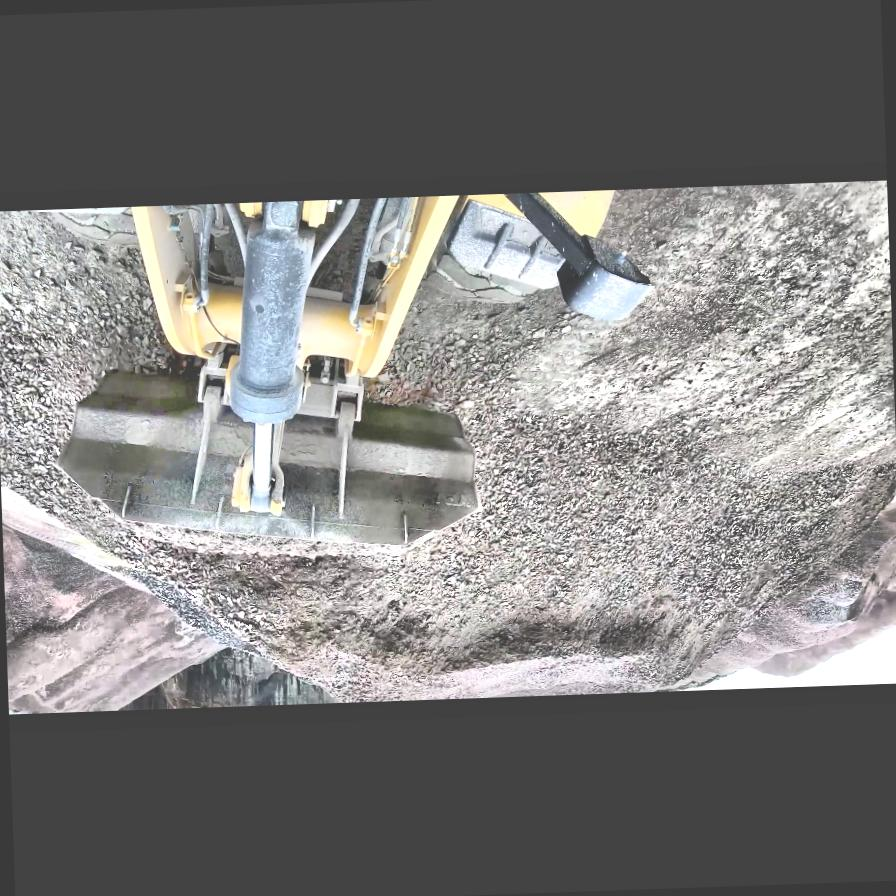anchor: (223, 423, 308, 517)
pile of gravel: (0, 340, 896, 715), (0, 456, 236, 715), (741, 510, 896, 680)
